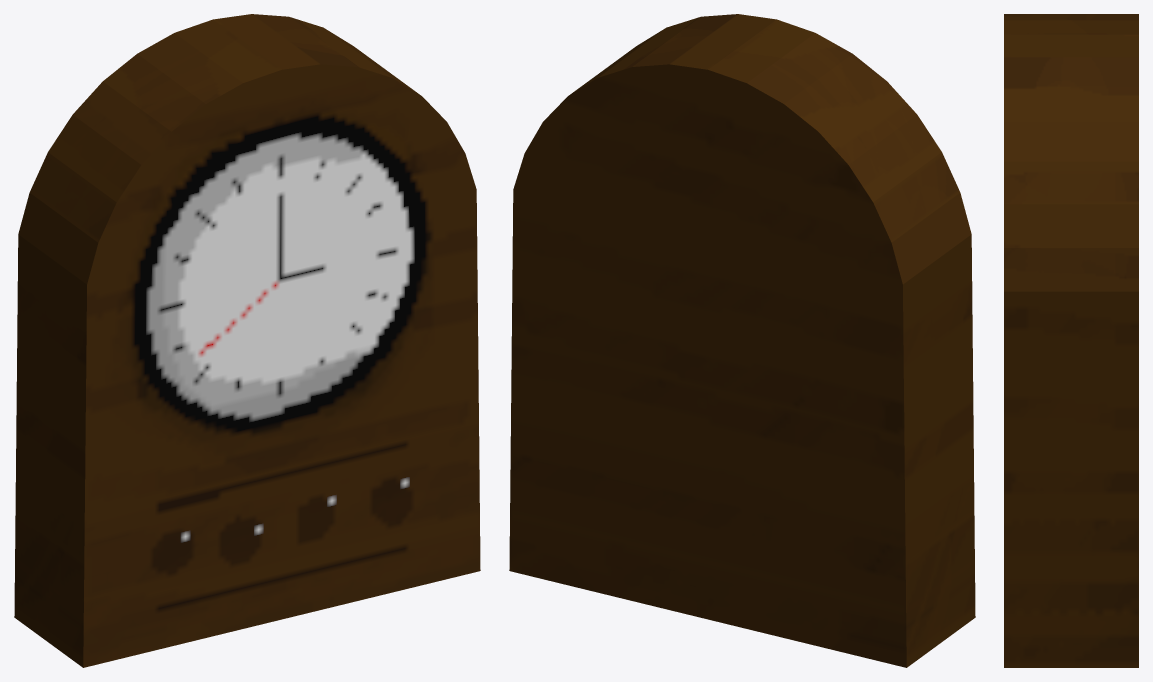
The model's file is M_INT_Clock.fbx.
3 renders of one model, left to right at view 1: azimuth 30°, elevation 25°; view 2: azimuth 150°, elevation 25°; view 3: azimuth 270°, elevation 25°, orthographic. The views are drawn at different scales.
Visible parts, largest first — view 1: Clock; view 2: Clock; view 3: Clock.
Part boxes in pixels (<box>): Clock: <box>14,14,480,667</box>; Clock: <box>509,14,975,667</box>; Clock: <box>1004,14,1138,667</box>.
Size of the model in its own units: 38 by 50.25 by 11.4.
Materials: 1 (1 with a texture image).
